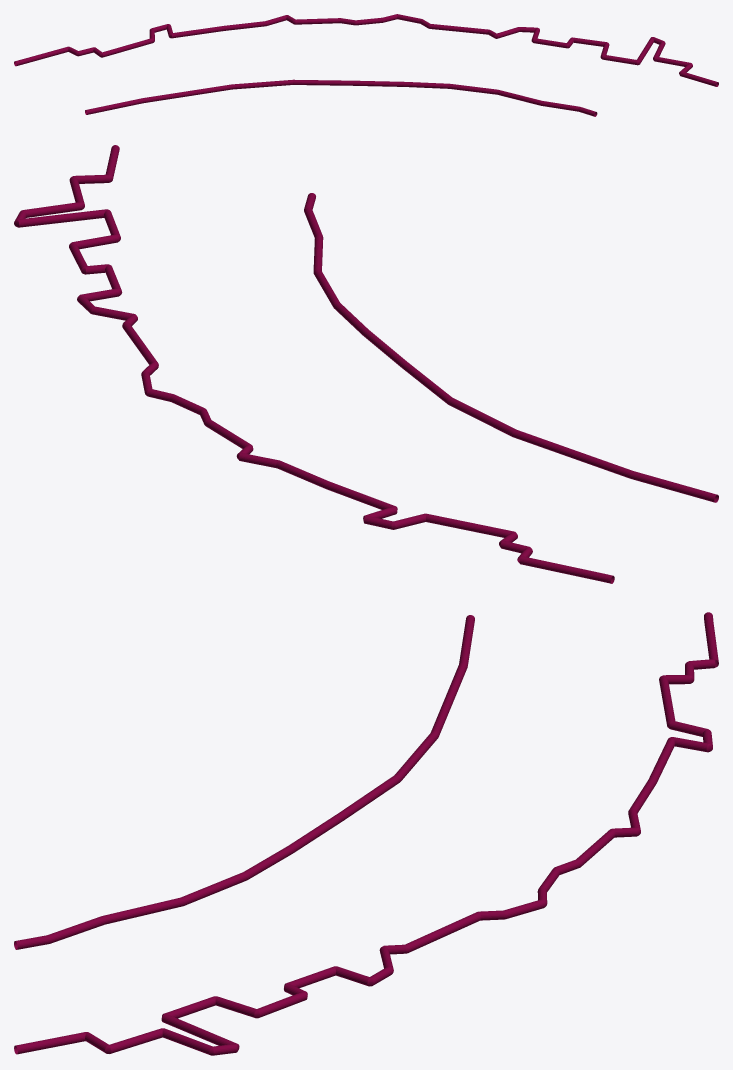
The model's file is Shore1800Lines_0.fbx.
The picture shows the model from 3 angles, top to bottom: view 1: azimuth 30°, elevation 25°; view 2: azimuth 150°, elevation 25°; view 3: azimuth 270°, elevation 25°; orthographic projection. The views are drawn at different scales.
Parts seen in each view (by area): view 1: CityEngineMaterial_m; view 2: CityEngineMaterial_m; view 3: CityEngineMaterial_m.
Part boxes in pixels (x1,y1,x2,y2): CityEngineMaterial_m: [14, 14, 718, 116]; CityEngineMaterial_m: [14, 145, 718, 583]; CityEngineMaterial_m: [14, 612, 718, 1055].
Size of the model in its own units: 565 by 5 by 385.
